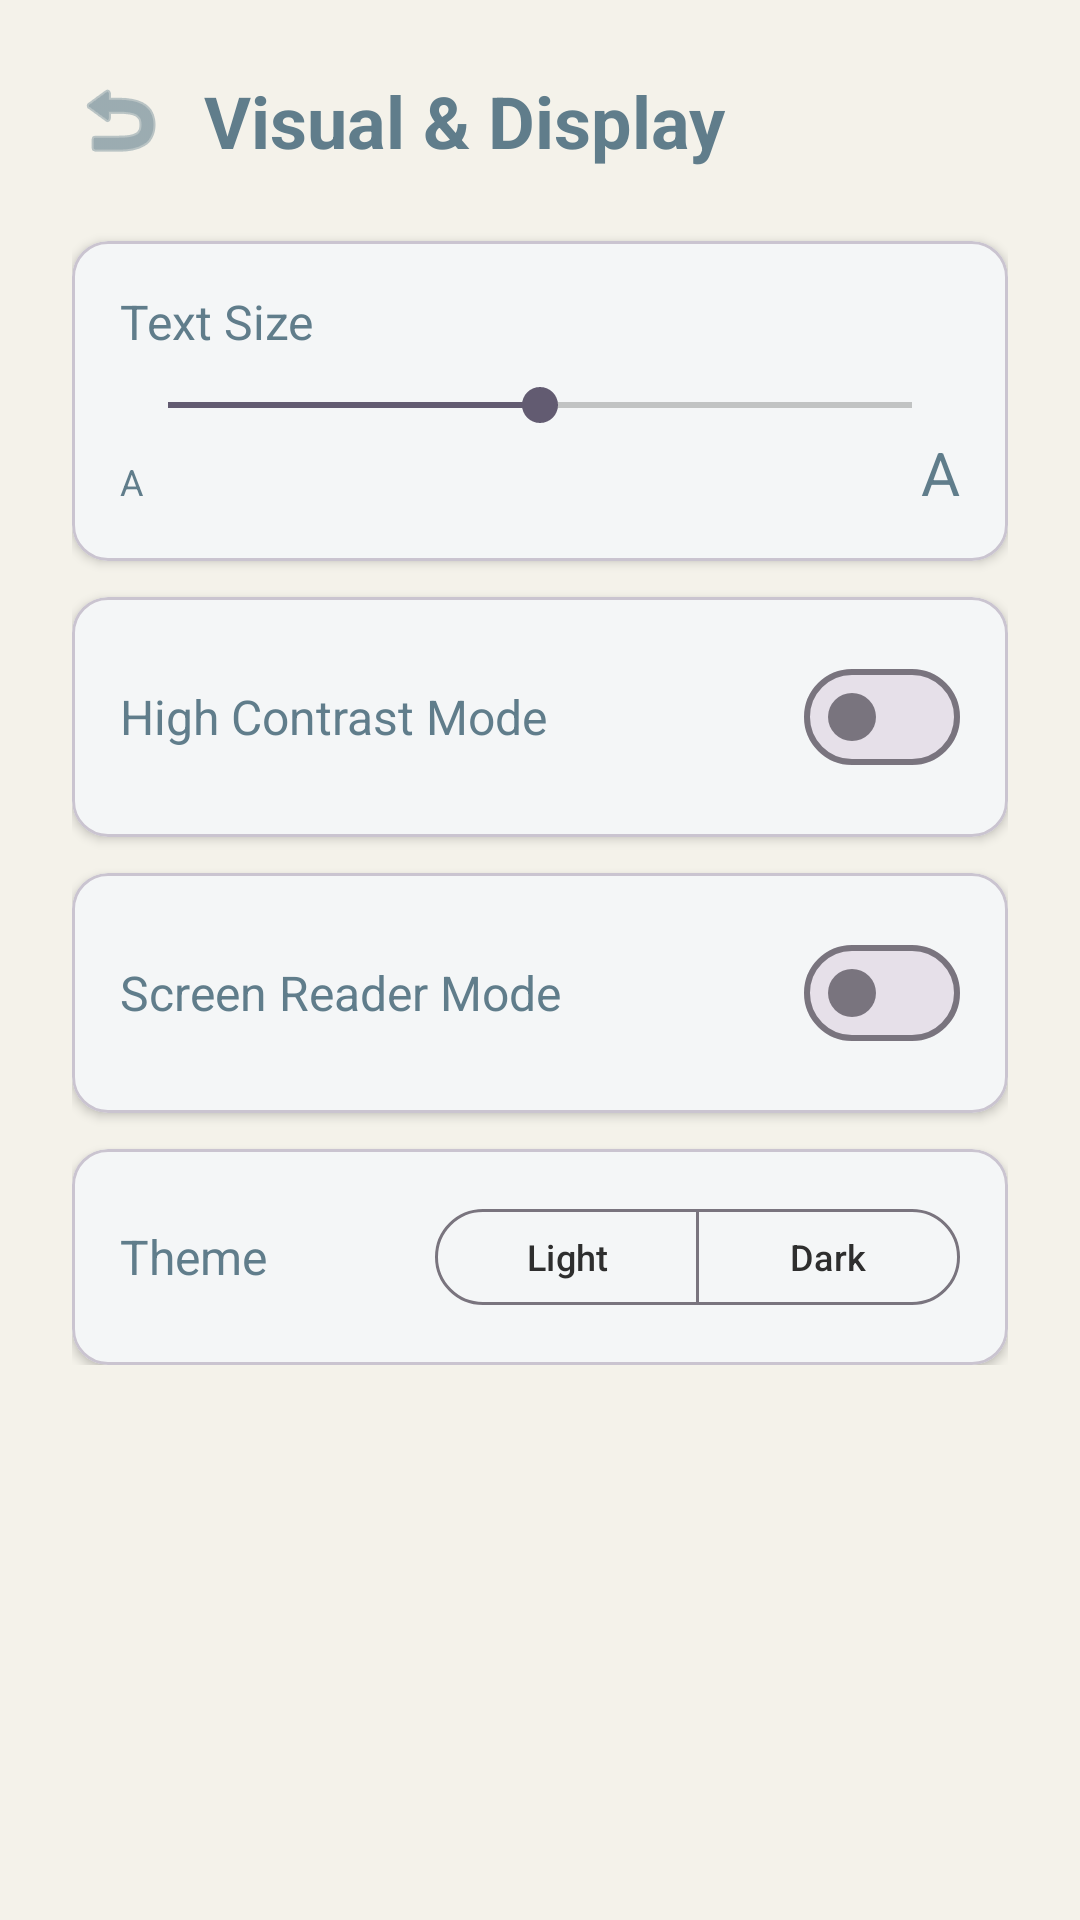

Screen size 1080px x 1920px. Icon name, then its center in pixels as [x,y]:
revert: [121,121]
